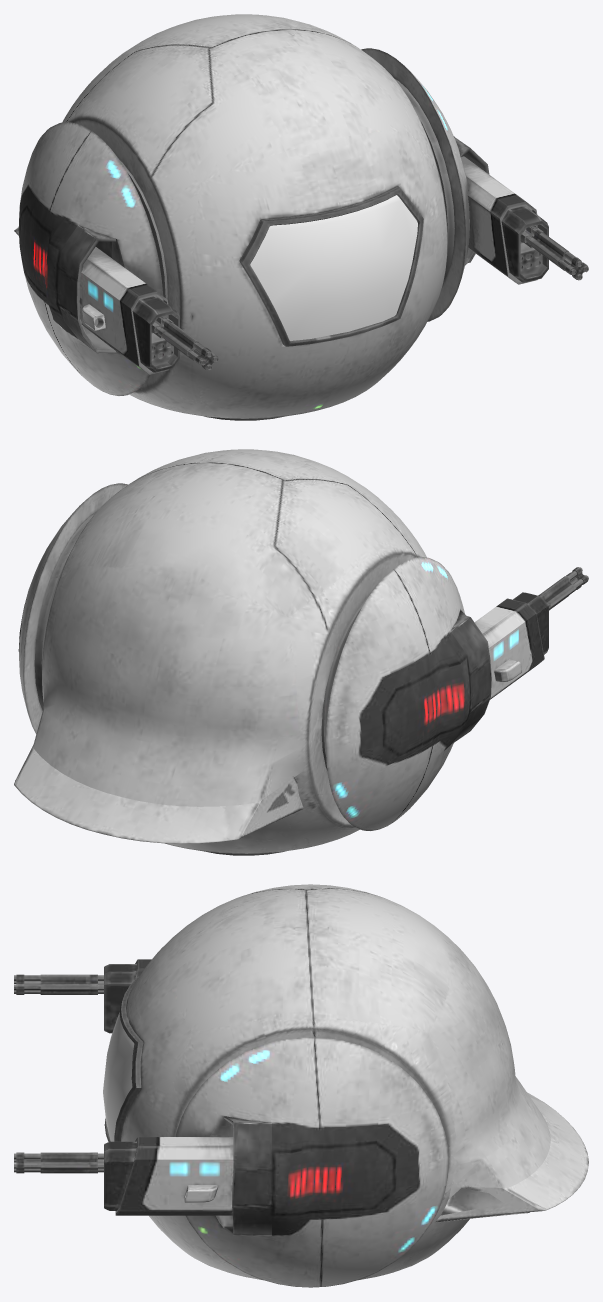
The model's file is robot.glb.
The picture shows the model from 3 angles, top to bottom: view 1: azimuth 30°, elevation 25°; view 2: azimuth 150°, elevation 25°; view 3: azimuth 270°, elevation 25°; orthographic projection.
Parts seen in each view (by area): view 1: glass; view 2: glass; view 3: glass.
Part boxes in pixels (x1,y1,x2,y2): glass: [14, 14, 588, 420]; glass: [14, 449, 588, 855]; glass: [14, 884, 588, 1287].
Size of the model in its own units: 1.93 by 1.52 by 2.28.
2 materials, 1 textured.
